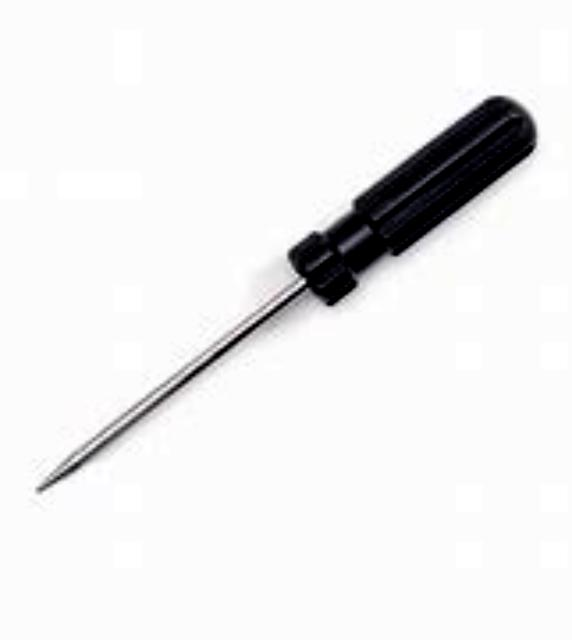ice pick: (46, 100, 540, 494)
